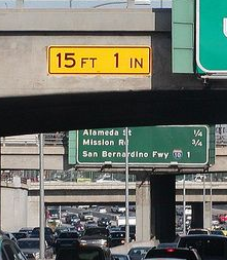1: (53, 50, 64, 69), (111, 51, 121, 68)
5: (63, 50, 77, 69)
overheadsign: (46, 44, 152, 77)
